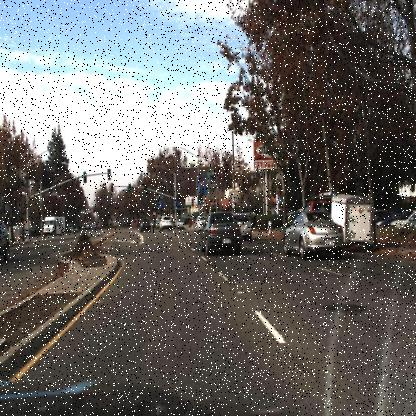car: (281, 206, 344, 256), (336, 192, 380, 256), (199, 206, 245, 260), (193, 204, 207, 237), (136, 216, 152, 235), (158, 214, 173, 232)
trafficLight-Green: (141, 182, 149, 198), (198, 190, 206, 206), (126, 182, 133, 198), (173, 199, 180, 214)
truck: (38, 212, 65, 240), (41, 214, 67, 237)
